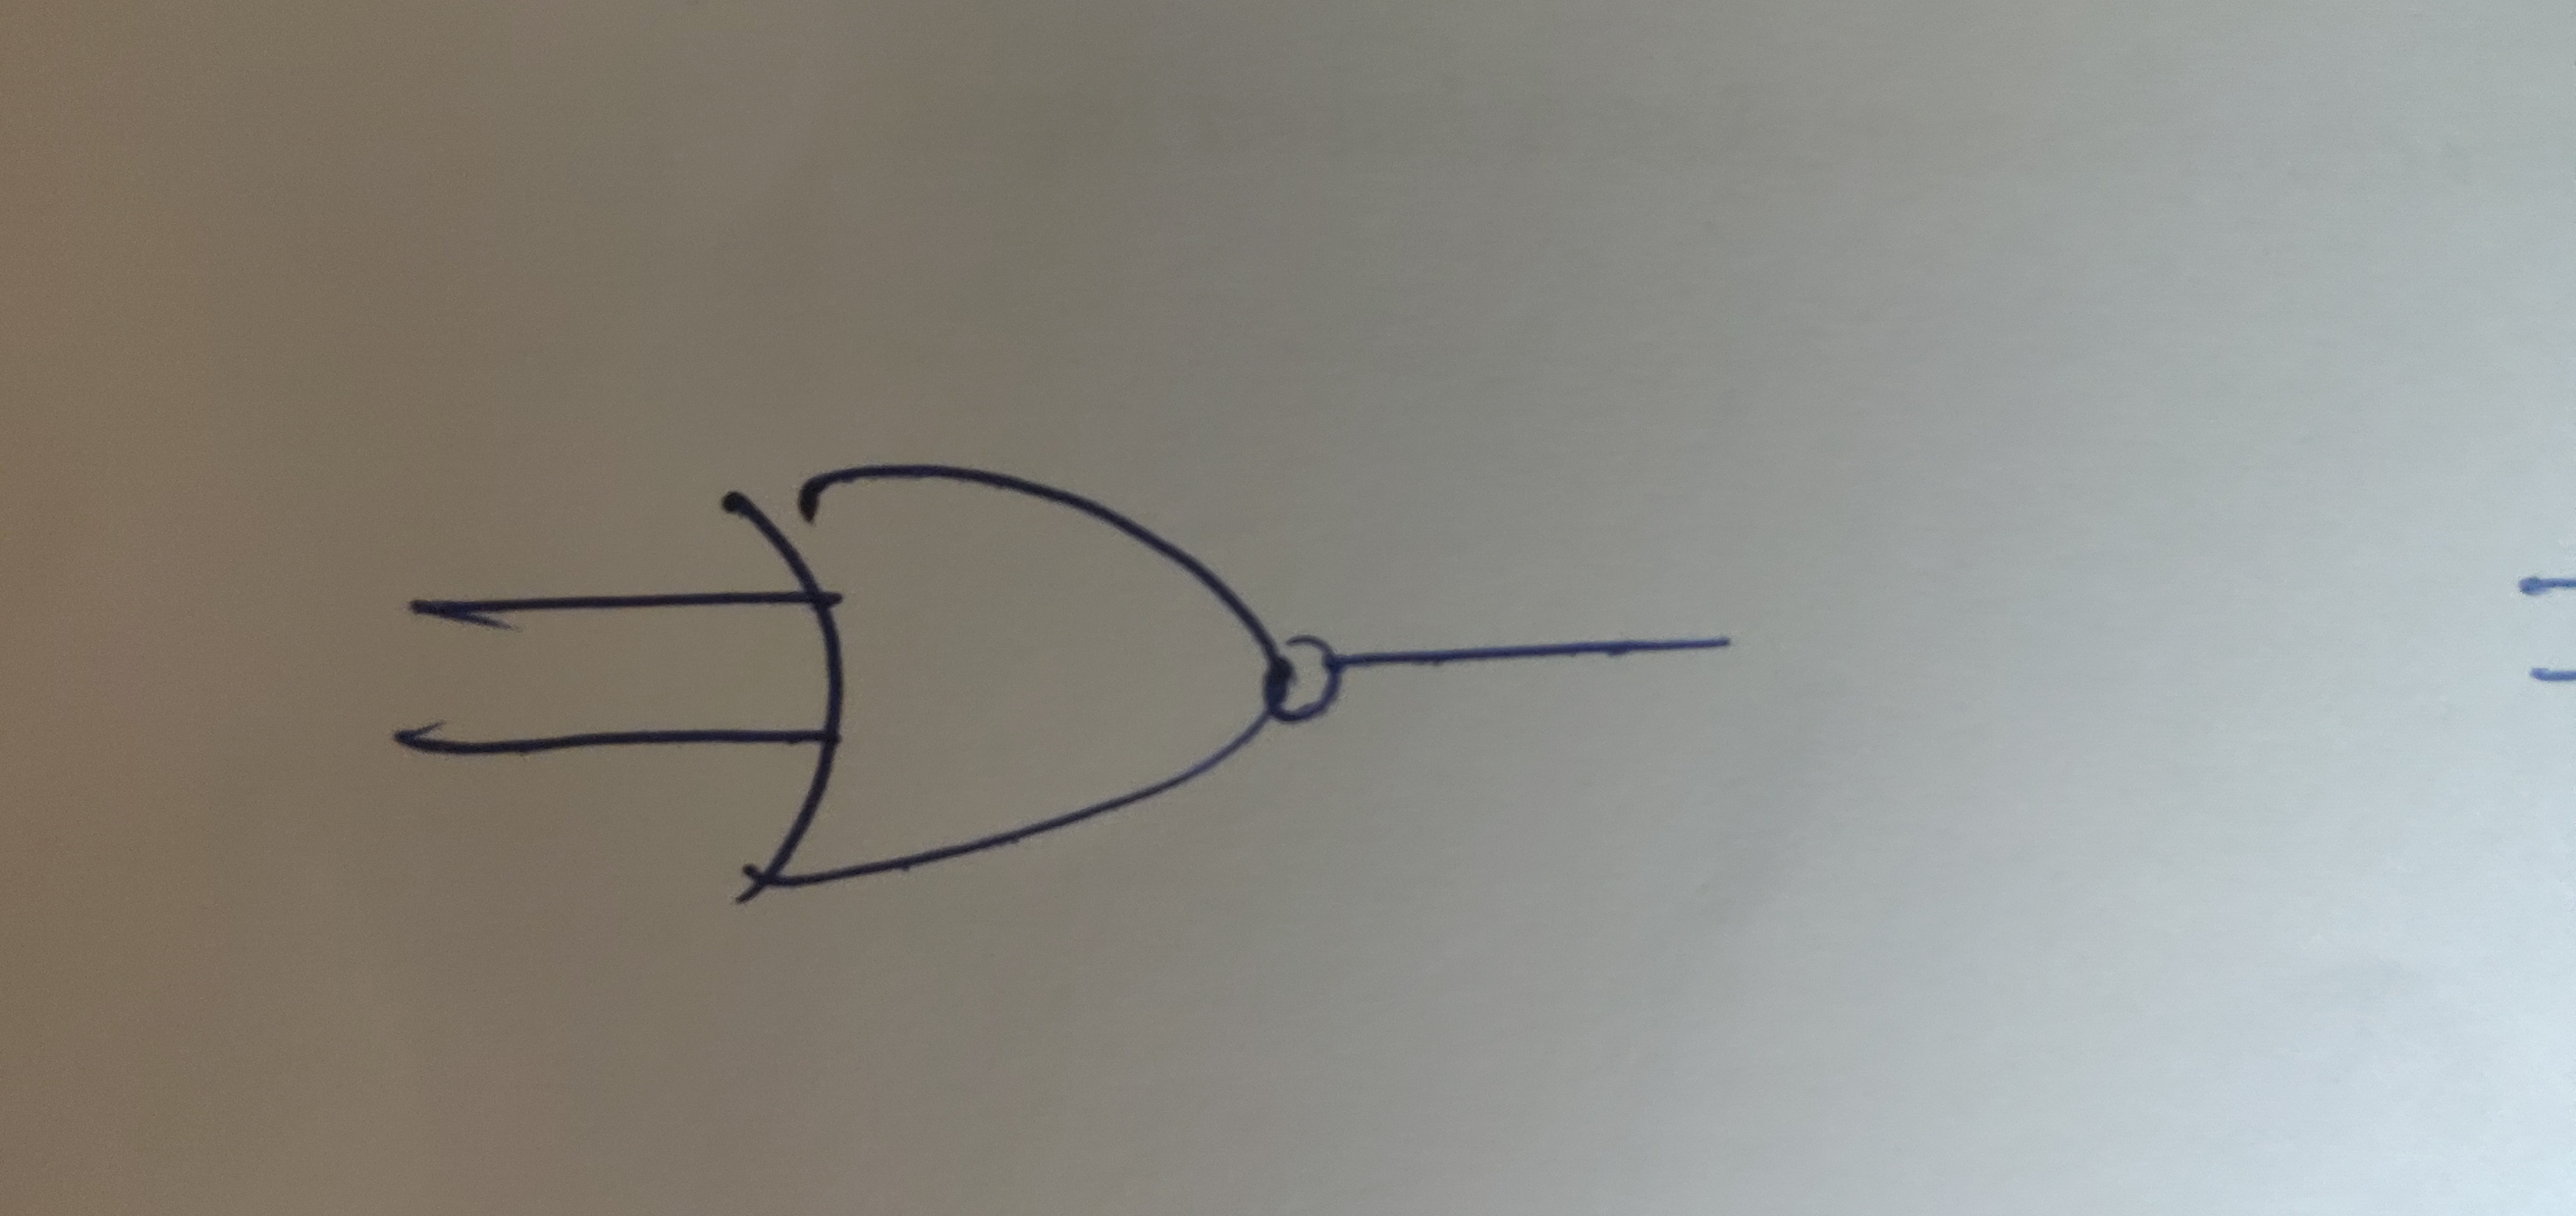nor: (641, 411, 1413, 953)
